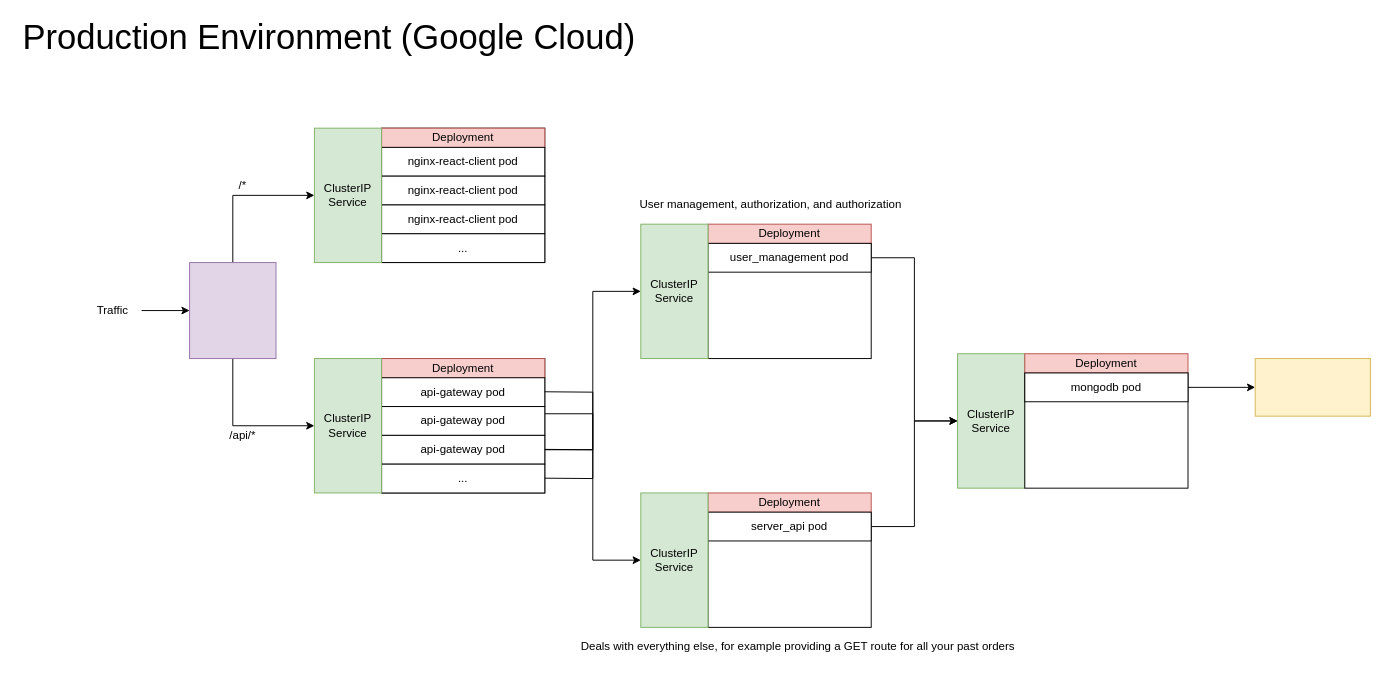
Image size: 1387x673. Some labels were removed from this diagram. The shapes that lost their labels are listed below. From the top down, each one's centre as x and y in pixels, then its label:
At pixel 232 310: "nginx-ingress".
At pixel 1312 387: "Persistent Volume".
